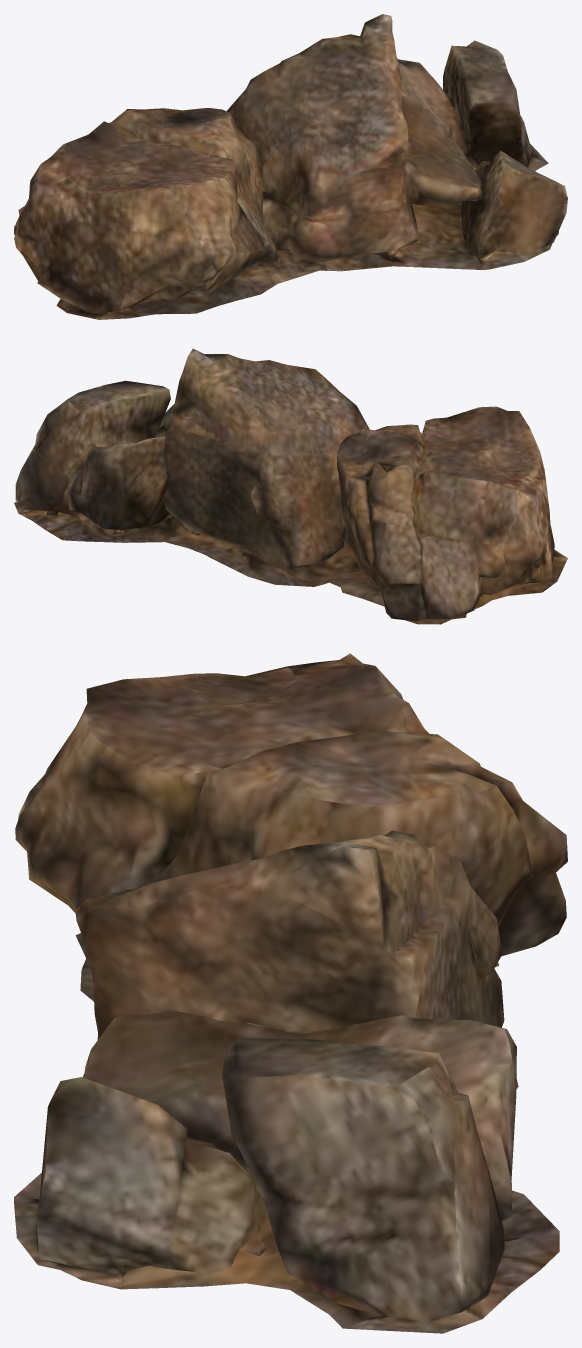
Rendered from rock-sandstone-boulder.lite.c24c6980.glb.
3 renders of one model, top to bottom at view 1: azimuth 30°, elevation 25°; view 2: azimuth 150°, elevation 25°; view 3: azimuth 270°, elevation 25°, orthographic. The views are drawn at different scales.
Visible parts, largest first — view 1: model; view 2: model; view 3: model.
Boxes of the visible parts, box(x1,y1,x2,y2) form: model: box(14, 14, 567, 319); model: box(14, 348, 567, 624); model: box(14, 653, 567, 1333).
Size of the model in its own units: 2.51 by 0.8788 by 1.23.
Materials: 1 (1 with a texture image).
